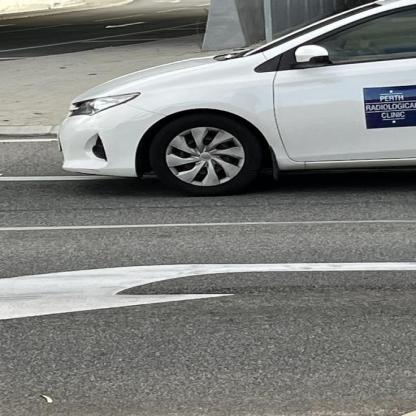Tire: (149, 116, 263, 197)
